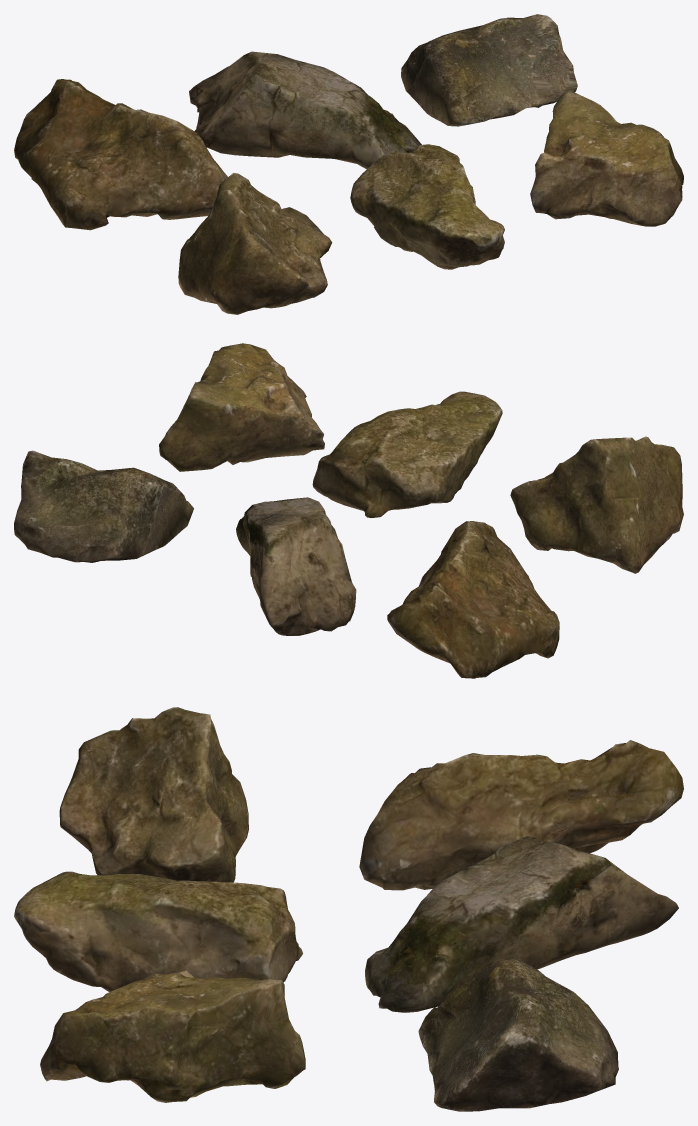
File: rock_moss_set_01.glb
3 views of the same model, one above another, from view 1: azimuth 30°, elevation 25°; view 2: azimuth 150°, elevation 25°; view 3: azimuth 270°, elevation 25° (orthographic). The views are drawn at different scales.
Parts seen in each view (by area): view 1: rock_moss_set_01_rock01, rock_moss_set_01_rock02, rock_moss_set_01_rock06, rock_moss_set_01_rock04, rock_moss_set_01_rock03, rock_moss_set_01_rock05; view 2: rock_moss_set_01_rock04, rock_moss_set_01_rock01, rock_moss_set_01_rock05, rock_moss_set_01_rock03, rock_moss_set_01_rock06, rock_moss_set_01_rock02; view 3: rock_moss_set_01_rock01, rock_moss_set_01_rock02, rock_moss_set_01_rock05, rock_moss_set_01_rock04, rock_moss_set_01_rock06, rock_moss_set_01_rock03.
Part boxes in pixels (left/top/right/bottom): rock_moss_set_01_rock01: left=14, top=79, right=227, bottom=230; rock_moss_set_01_rock02: left=189, top=51, right=421, bottom=169; rock_moss_set_01_rock06: left=530, top=89, right=683, bottom=226; rock_moss_set_01_rock04: left=178, top=173, right=332, bottom=314; rock_moss_set_01_rock03: left=401, top=14, right=577, bottom=126; rock_moss_set_01_rock05: left=350, top=144, right=504, bottom=269; rock_moss_set_01_rock04: left=510, top=436, right=683, bottom=573; rock_moss_set_01_rock01: left=387, top=521, right=559, bottom=678; rock_moss_set_01_rock05: left=312, top=391, right=502, bottom=517; rock_moss_set_01_rock03: left=14, top=450, right=193, bottom=562; rock_moss_set_01_rock06: left=159, top=343, right=324, bottom=471; rock_moss_set_01_rock02: left=236, top=497, right=356, bottom=635; rock_moss_set_01_rock01: left=359, top=740, right=683, bottom=890; rock_moss_set_01_rock02: left=365, top=836, right=678, bottom=1012; rock_moss_set_01_rock05: left=14, top=871, right=302, bottom=991; rock_moss_set_01_rock04: left=59, top=707, right=248, bottom=882; rock_moss_set_01_rock06: left=40, top=970, right=305, bottom=1102; rock_moss_set_01_rock03: left=418, top=958, right=618, bottom=1111.
Bounding box in the file's own units: 8 × 1.76 × 6.94.
1 material, 1 textured.
